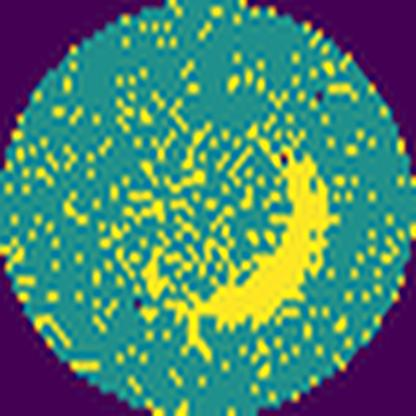Donut: (81, 98, 351, 358)
